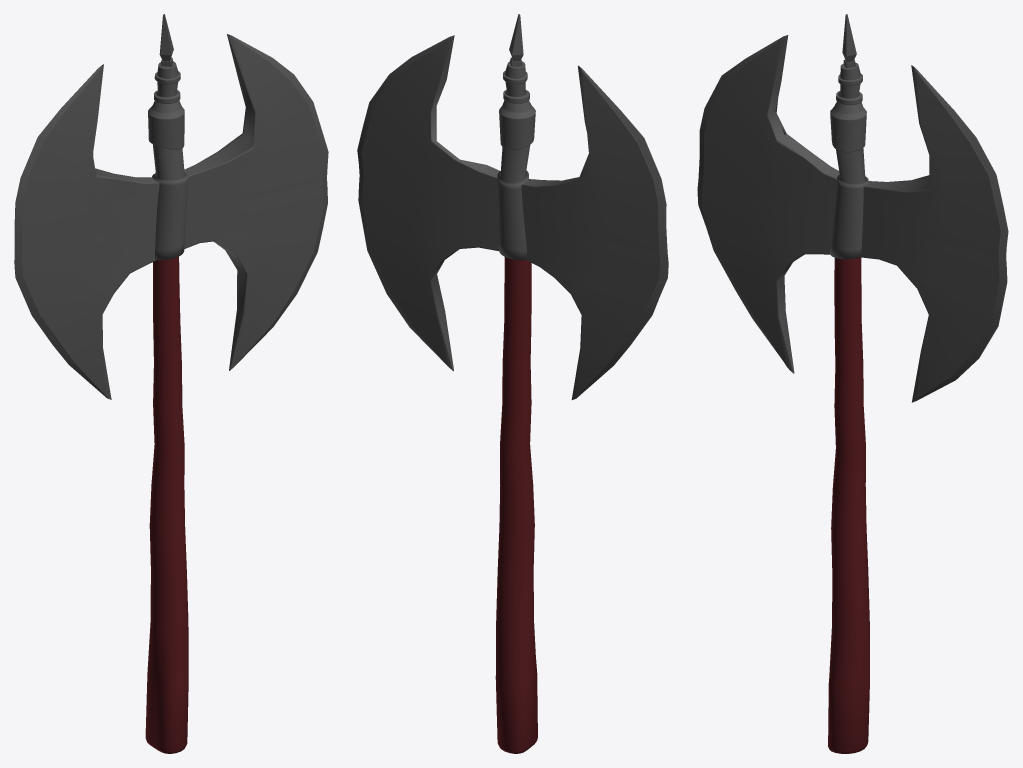
File: battleaxe.fbx
The picture shows the model from 3 angles, left to right: view 1: azimuth 30°, elevation 25°; view 2: azimuth 150°, elevation 25°; view 3: azimuth 330°, elevation 25°; orthographic projection.
Parts seen in each view (by area): view 1: Battleaxe:polySurface61; view 2: Battleaxe:polySurface61; view 3: Battleaxe:polySurface61.
Part boxes in pixels (box(x1,y1,x2,y2)): Battleaxe:polySurface61: box(14, 14, 328, 753); Battleaxe:polySurface61: box(357, 14, 668, 753); Battleaxe:polySurface61: box(697, 14, 1008, 753).
Size of the model in its own units: 3517 by 7865 by 454.
